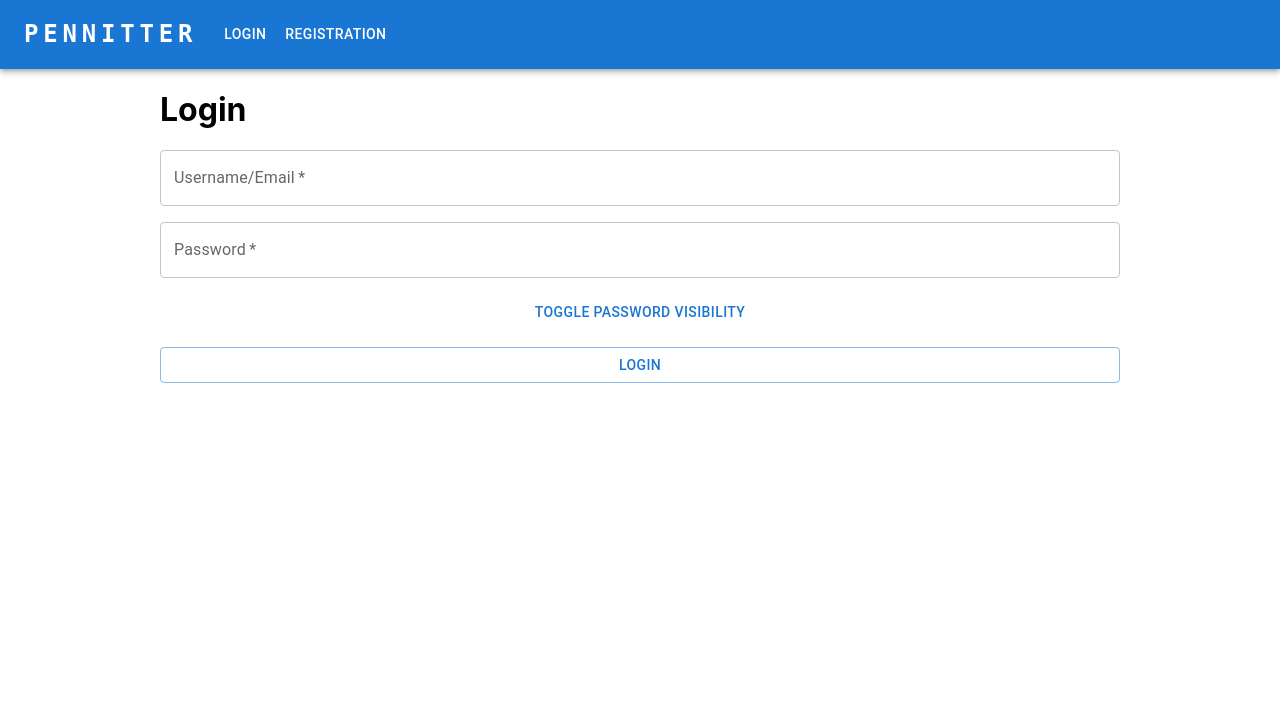
Test User Registration › invalid username, email, and password format
Note: click on the Registration button
Step 1. Click the link "Registration" → coordinates (336, 34), box top-left (285, 26), bottom-right (386, 42)
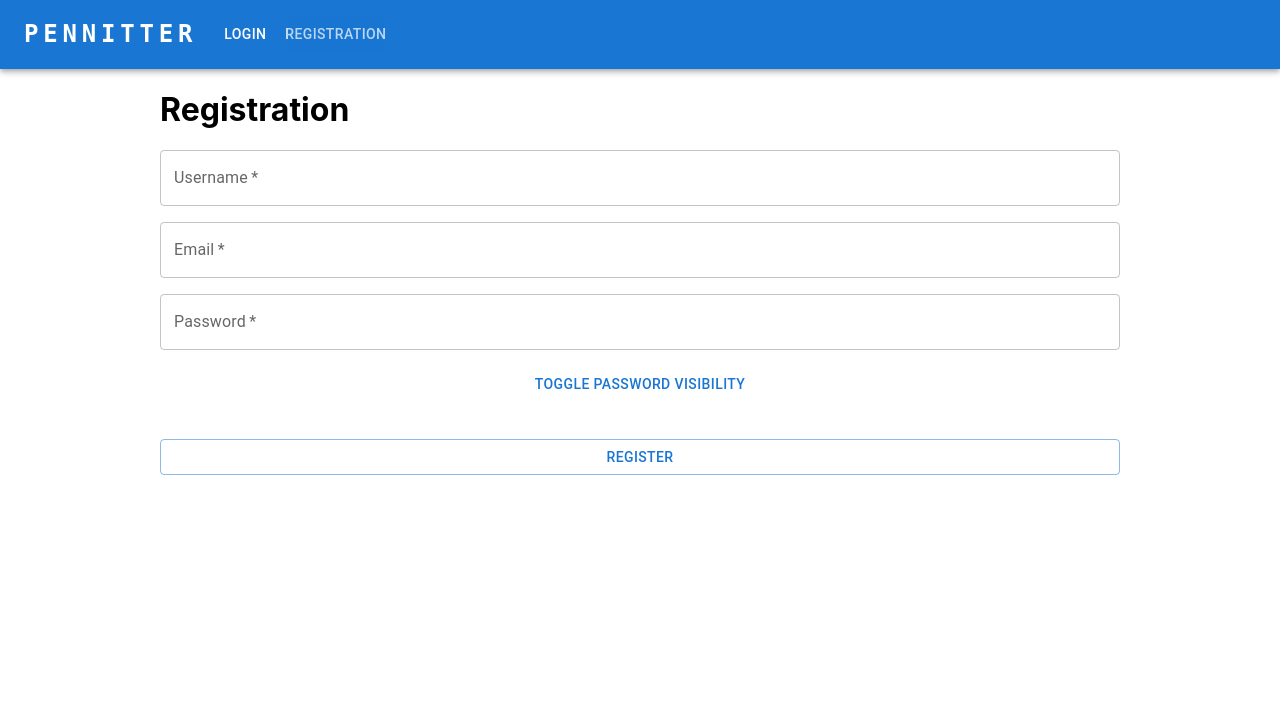
Expected: the button "Register" is shown, top-left (160, 439), bottom-right (1120, 475)
Step 2. Type "-mike-" into the field with placeholder "username" → coordinates (640, 178), box top-left (160, 150), bottom-right (1120, 206)
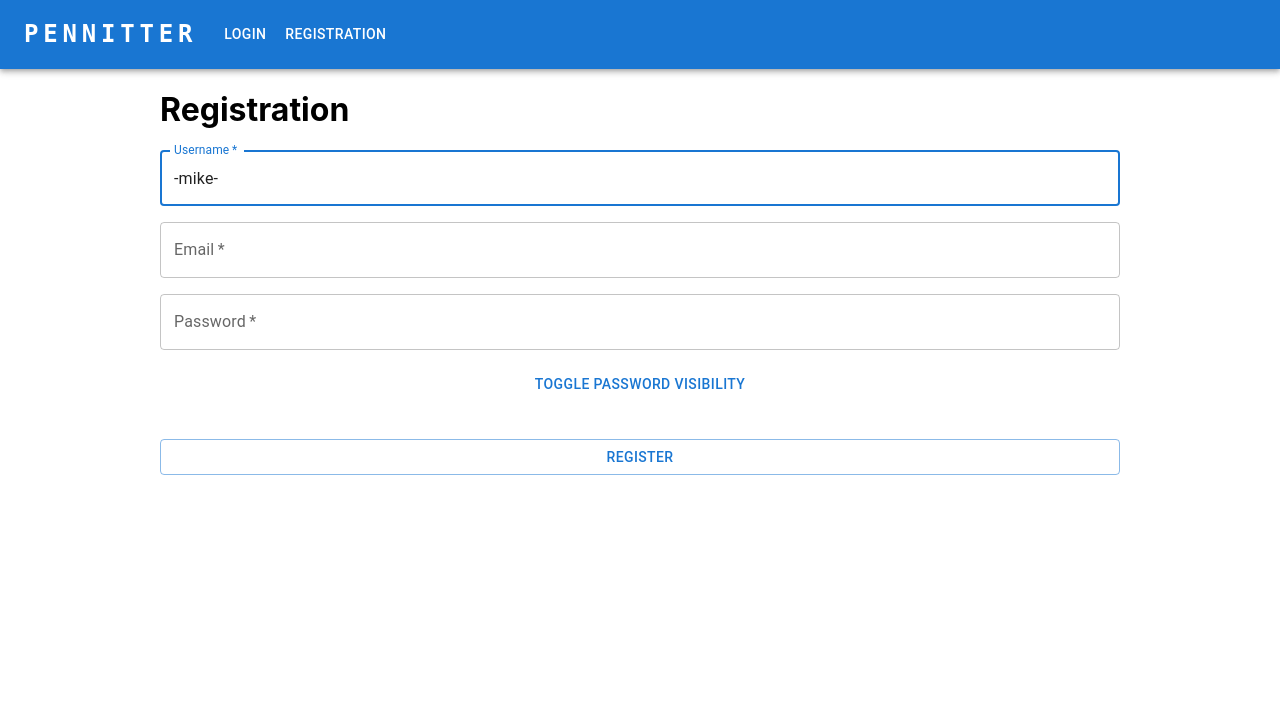
Step 3. Type "mikeupenn.edu" into the field with placeholder "email" → coordinates (640, 250), box top-left (160, 222), bottom-right (1120, 278)
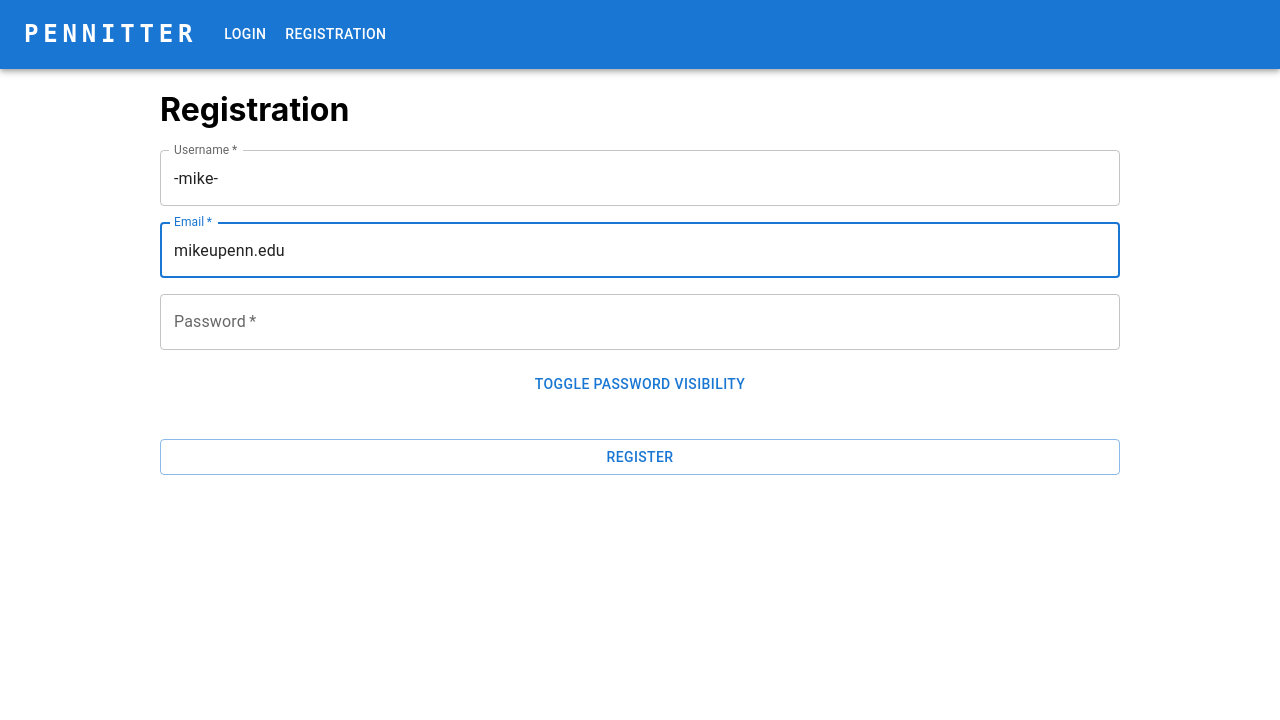
Step 4. Type "weakpassword" into the password field with placeholder "password" → coordinates (640, 322), box top-left (160, 294), bottom-right (1120, 350)
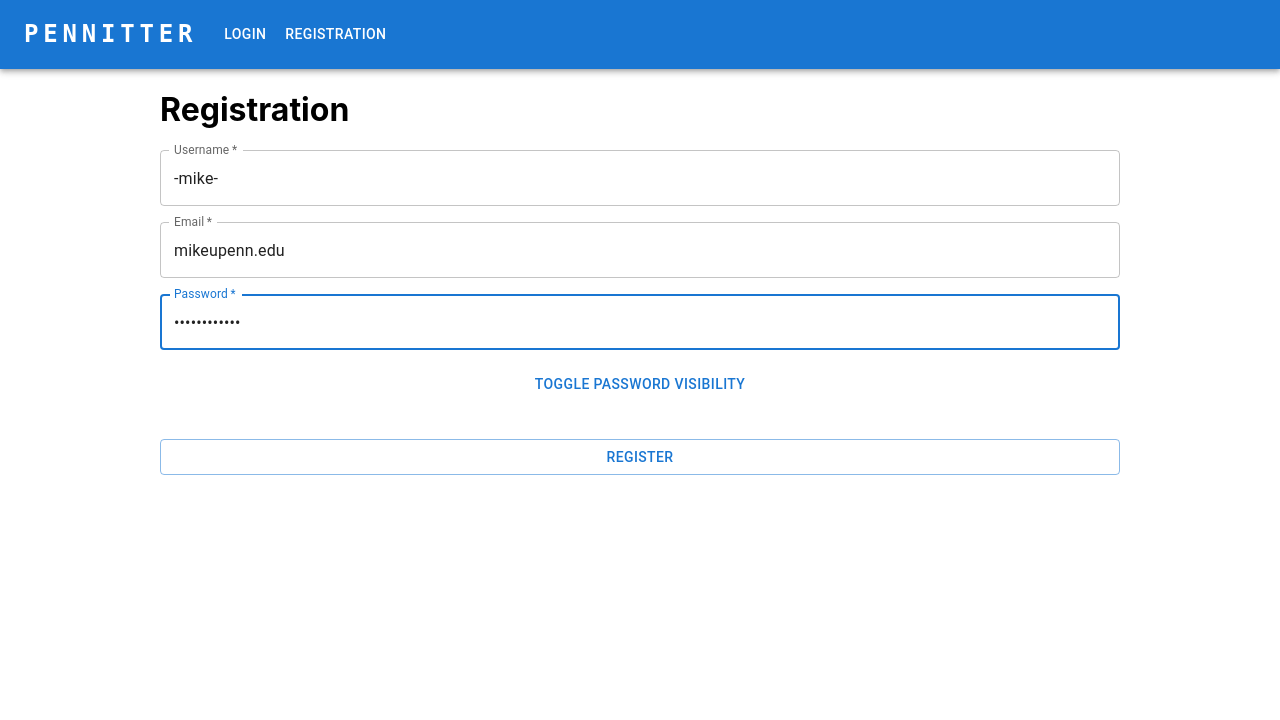
Note: show password
Step 5. Click the button "Toggle Password Visibility" → coordinates (640, 385), box top-left (160, 366), bottom-right (1120, 403)
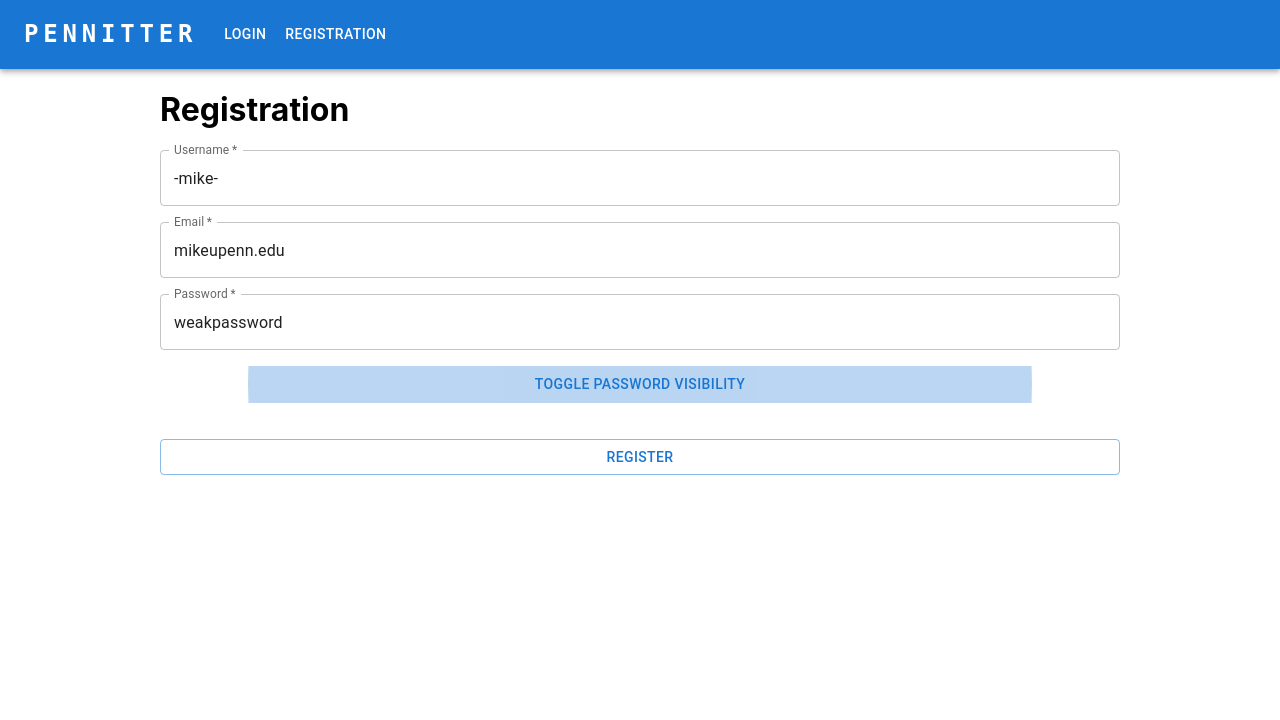
Note: click on the register button
Step 6. Click the button "Register" → coordinates (640, 458), box top-left (160, 439), bottom-right (1120, 476)
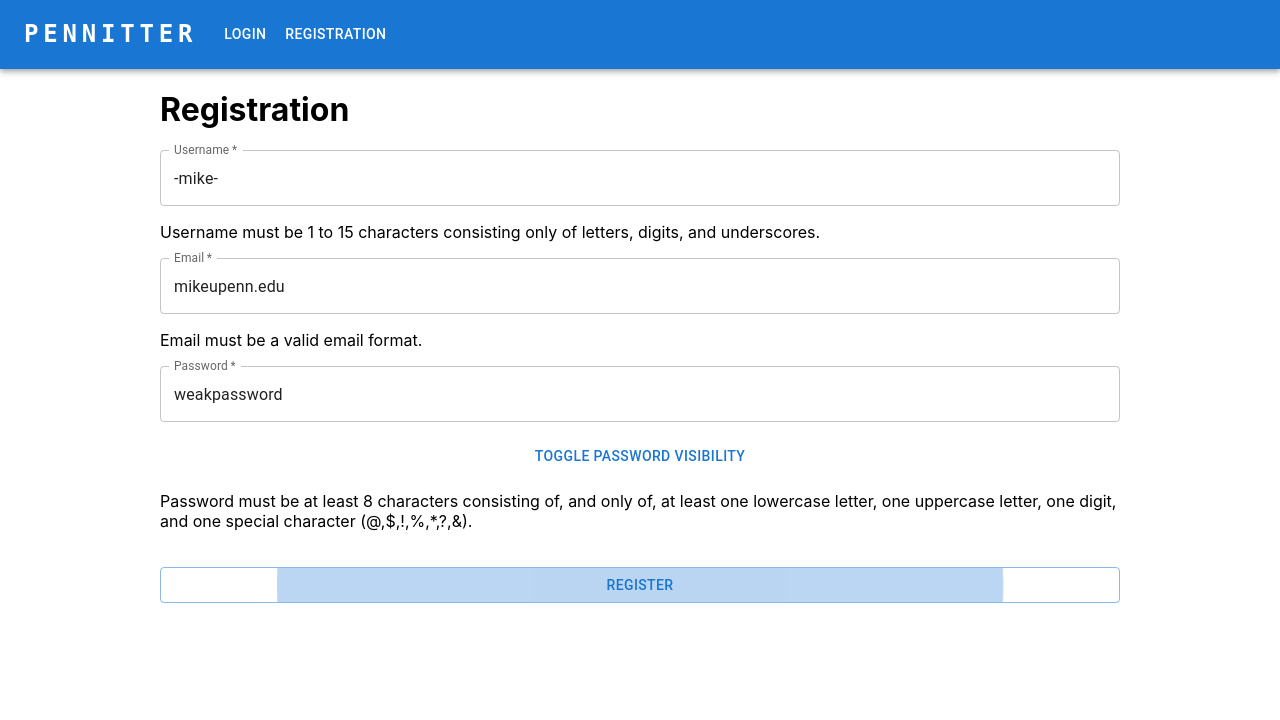
Expected: the text "Username must be" is shown, top-left (160, 222), bottom-right (820, 242)
Expected: the text "Email must be a valid email format." is shown, top-left (160, 330), bottom-right (422, 350)
Expected: the text "Password must be" is shown, top-left (160, 491), bottom-right (1120, 531)
